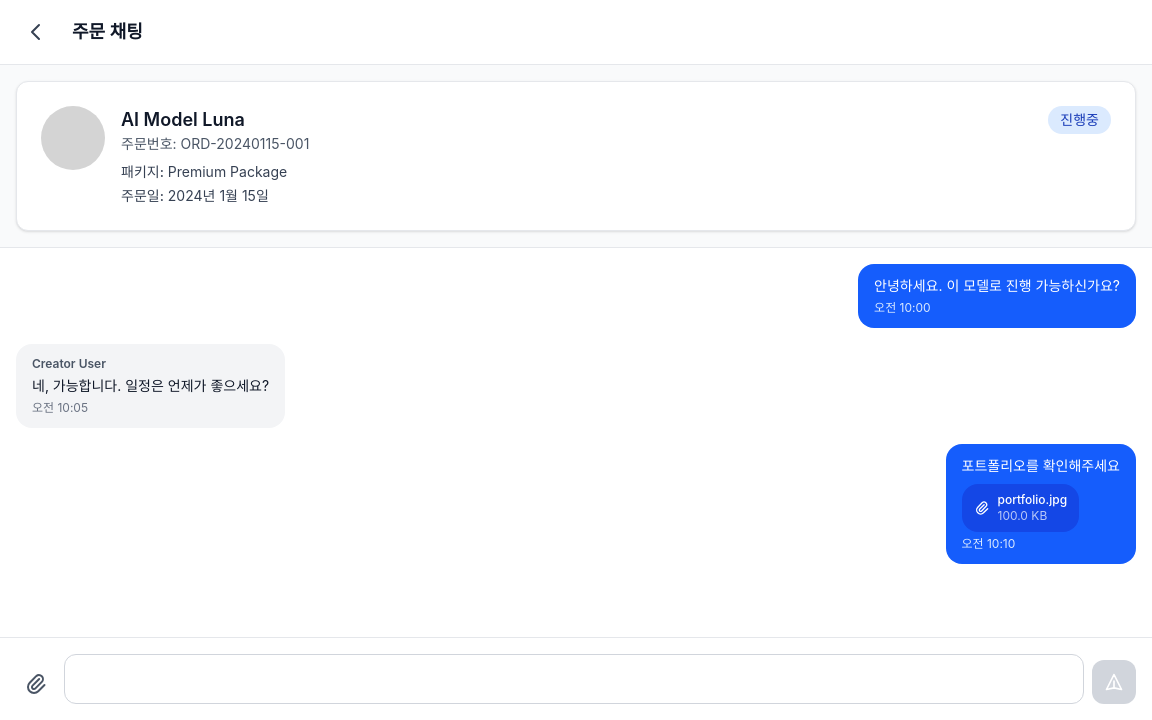
Test: Order Chat Room Integration Tests › 시나리오 7: 메시지 입력 UI › should enable send button when text is entered
The image size is (1152, 720).
Expected: the text "안녕하세요. 이 모델로 진행 가능하신가요?" is shown, [874,276,1120,296]
Type "테스트" into the text box with placeholder "메시지를 입력하세요 (Shift+Enter로 줄바꿈)" at (574, 679), box [64,654,1084,704]
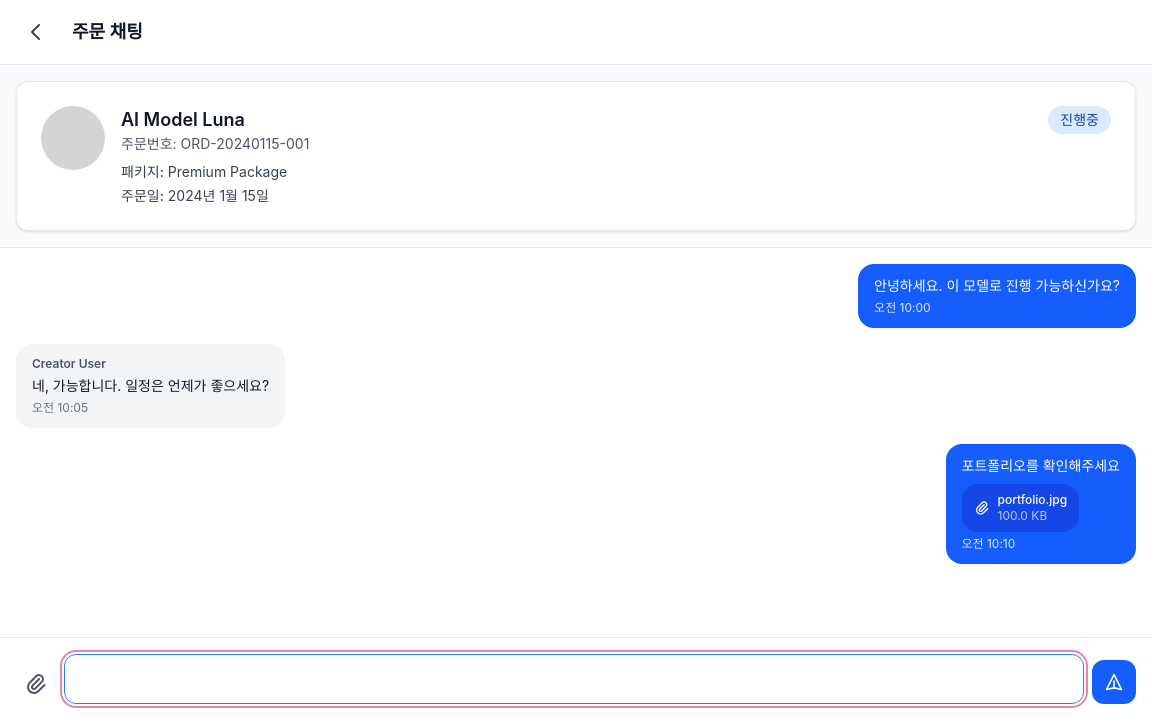
Now the button named "전송" is enabled, box [1092,660,1136,704]
